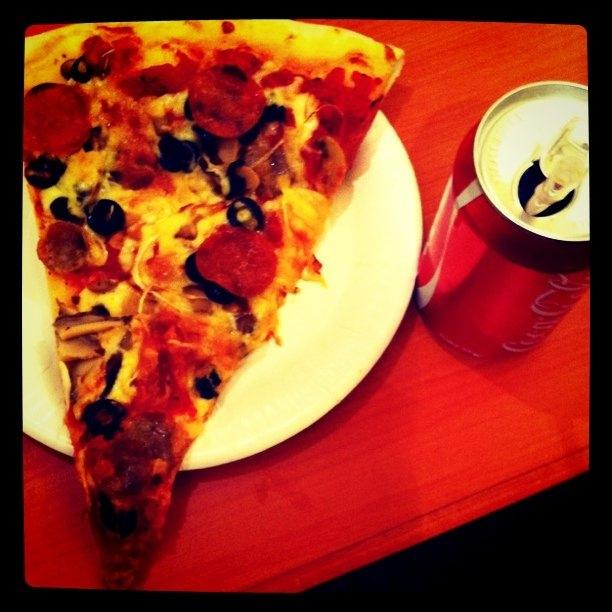mushroom: (246, 123, 297, 205), (53, 312, 125, 340), (314, 134, 346, 192), (56, 332, 108, 362), (228, 165, 260, 197), (217, 138, 241, 164)
